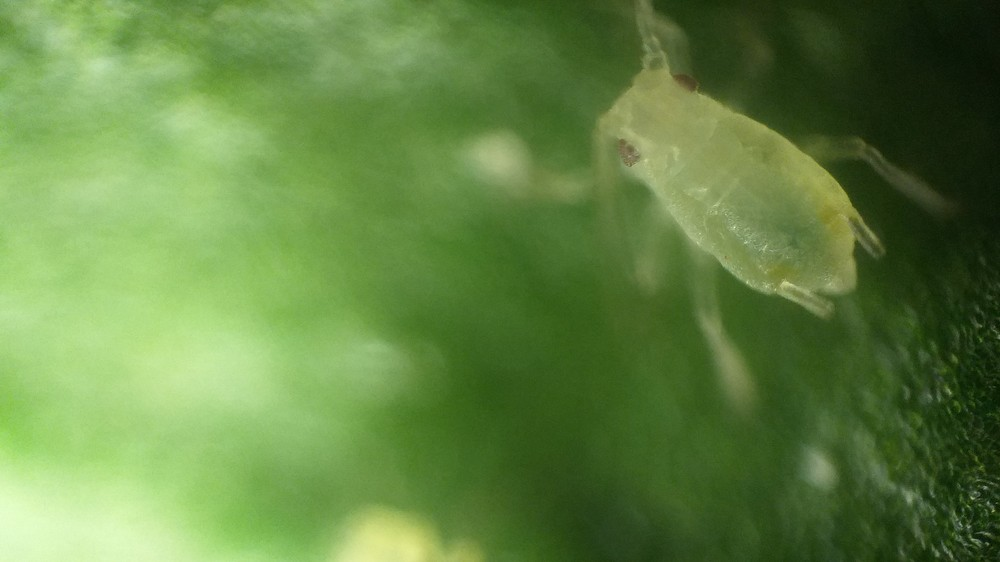Pulgon: (574, 18, 962, 413)
